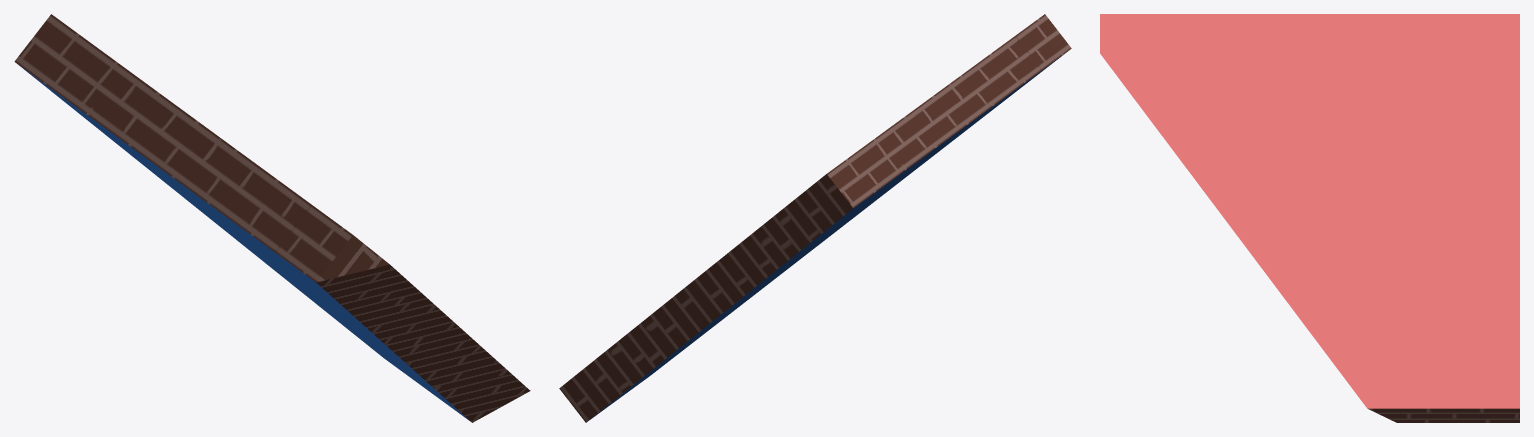
File: roof4.FBX
3 renders of one model, left to right at view 1: azimuth 30°, elevation 25°; view 2: azimuth 150°, elevation 25°; view 3: azimuth 270°, elevation 25°, orthographic. The views are drawn at different scales.
Visible parts, largest first — view 1: roof4; view 2: roof4; view 3: roof4.
Boxes of the visible parts, left/top/right/bottom form: roof4: left=14, top=14, right=530, bottom=422; roof4: left=559, top=14, right=1071, bottom=422; roof4: left=1100, top=14, right=1519, bottom=422.
Bounding box in the file's own units: 389 × 389 × 500.
3 materials, 1 textured.
